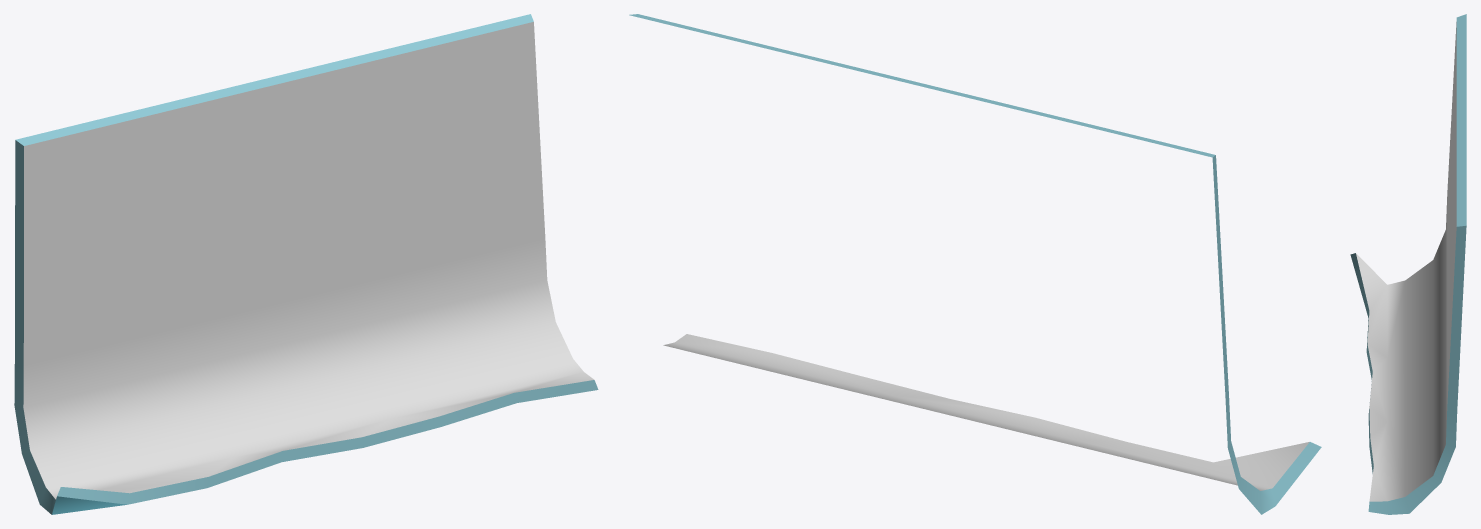
File: RescueStationMap.glb
3 views of the same model, side by side, from view 1: azimuth 30°, elevation 25°; view 2: azimuth 150°, elevation 25°; view 3: azimuth 270°, elevation 25° (orthographic). The views are drawn at different scales.
Parts seen in each view (by area): view 1: RescueStationMap; view 2: RescueStationMap; view 3: RescueStationMap.
Boxes of the visible parts, left/top/right/bottom form: RescueStationMap: left=14, top=14, right=598, bottom=514; RescueStationMap: left=629, top=14, right=1321, bottom=514; RescueStationMap: left=1350, top=14, right=1466, bottom=514.
Size of the model in its own units: 3.08 by 1.81 by 0.6662.
